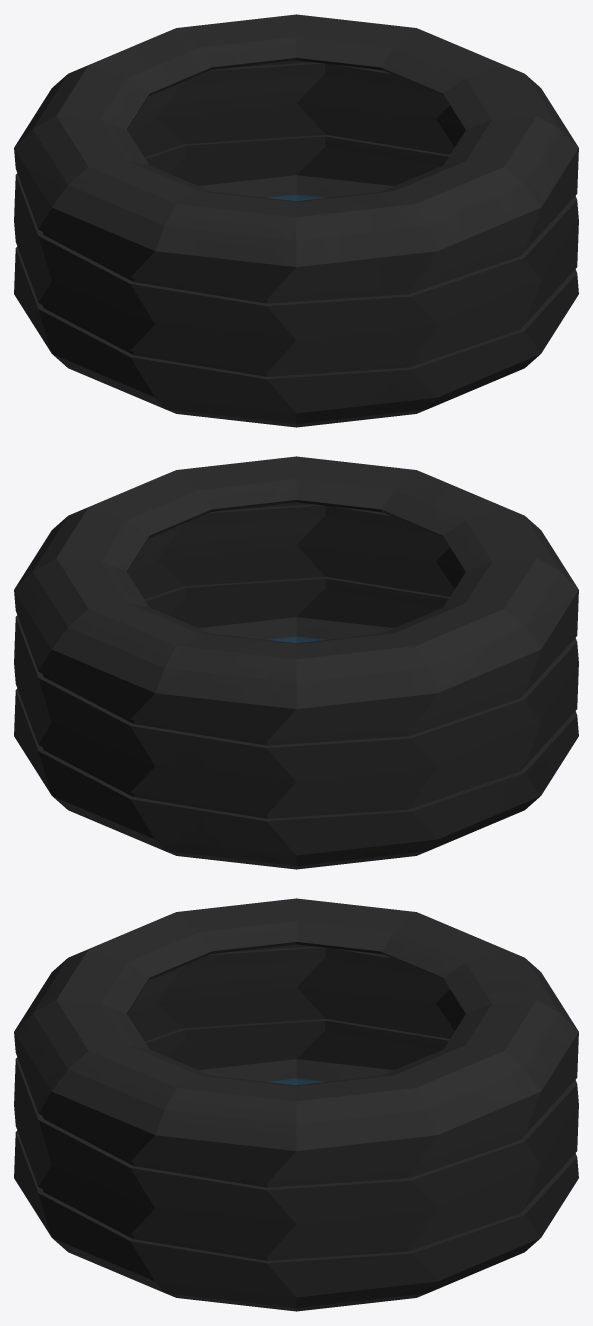
The model's file is SM_TireWithWater.fbx.
3 renders of one model, top to bottom at view 1: azimuth 30°, elevation 25°; view 2: azimuth 150°, elevation 25°; view 3: azimuth 270°, elevation 25°, orthographic.
Visible parts, largest first — view 1: Circle.004; view 2: Circle.004; view 3: Circle.004.
Boxes of the visible parts, x1,y1,x2,y2 form: Circle.004: [14, 14, 578, 427]; Circle.004: [14, 456, 578, 869]; Circle.004: [14, 898, 578, 1311].
Size of the model in its own units: 61.95 by 25.42 by 61.95.
